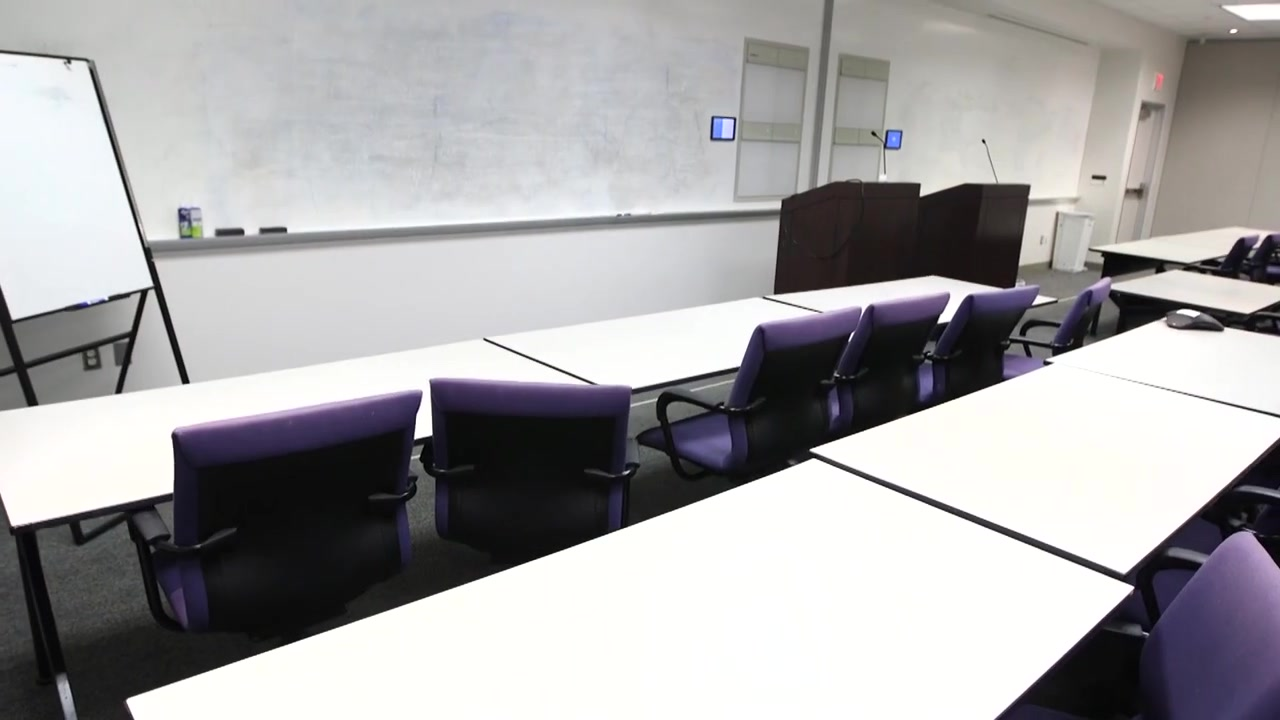chair: (127, 390, 424, 646), (1003, 530, 1280, 720), (419, 377, 641, 567), (635, 307, 863, 485), (834, 292, 951, 439), (920, 284, 1040, 407), (1004, 276, 1113, 379), (1182, 235, 1260, 280), (1240, 233, 1280, 286)
push_latch: (1125, 188, 1144, 195)
table: (125, 457, 1133, 720), (1, 337, 600, 720), (809, 362, 1280, 625), (484, 297, 825, 394), (1044, 316, 1280, 417), (1088, 226, 1280, 336), (762, 275, 1059, 326), (1110, 269, 1280, 335)
waste_bin: (1050, 210, 1097, 273)
